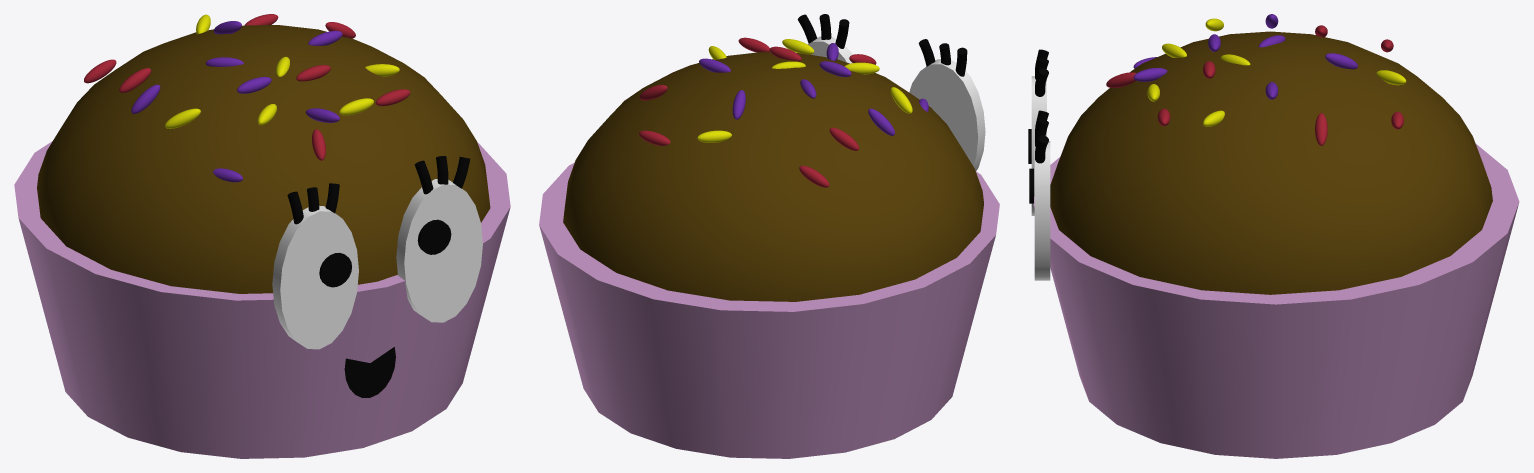
Rendered from Cupcake.fbx.
3 renders of one model, left to right at view 1: azimuth 30°, elevation 25°; view 2: azimuth 150°, elevation 25°; view 3: azimuth 270°, elevation 25°, orthographic. The views are drawn at different scales.
Visible parts, largest first — view 1: pSphere1, pCylinder1, pCylinder2, pCylinder3, pCylinder12, pCylinder5, pCylinder4; view 2: pSphere1, pCylinder1, pCylinder2, pCylinder3; view 3: pSphere1, pCylinder1, pCylinder3, pCylinder2.
Boxes of the visible parts, box(x1,y1,x2,y2) form: pSphere1: box(37, 25, 490, 293); pCylinder1: box(14, 141, 510, 458); pCylinder2: box(272, 205, 358, 349); pCylinder3: box(396, 179, 482, 322); pCylinder12: box(344, 347, 395, 397); pCylinder5: box(417, 219, 451, 254); pCylinder4: box(319, 252, 351, 287); pSphere1: box(563, 52, 983, 301); pCylinder1: box(539, 162, 999, 458); pCylinder2: box(909, 59, 985, 170); pCylinder3: box(808, 36, 852, 63); pSphere1: box(1050, 31, 1492, 294); pCylinder1: box(1033, 144, 1519, 458); pCylinder3: box(1034, 141, 1050, 280); pCylinder2: box(1031, 76, 1046, 215).
Bounding box in the file's own units: 7.85 × 5.75 × 7.91.
